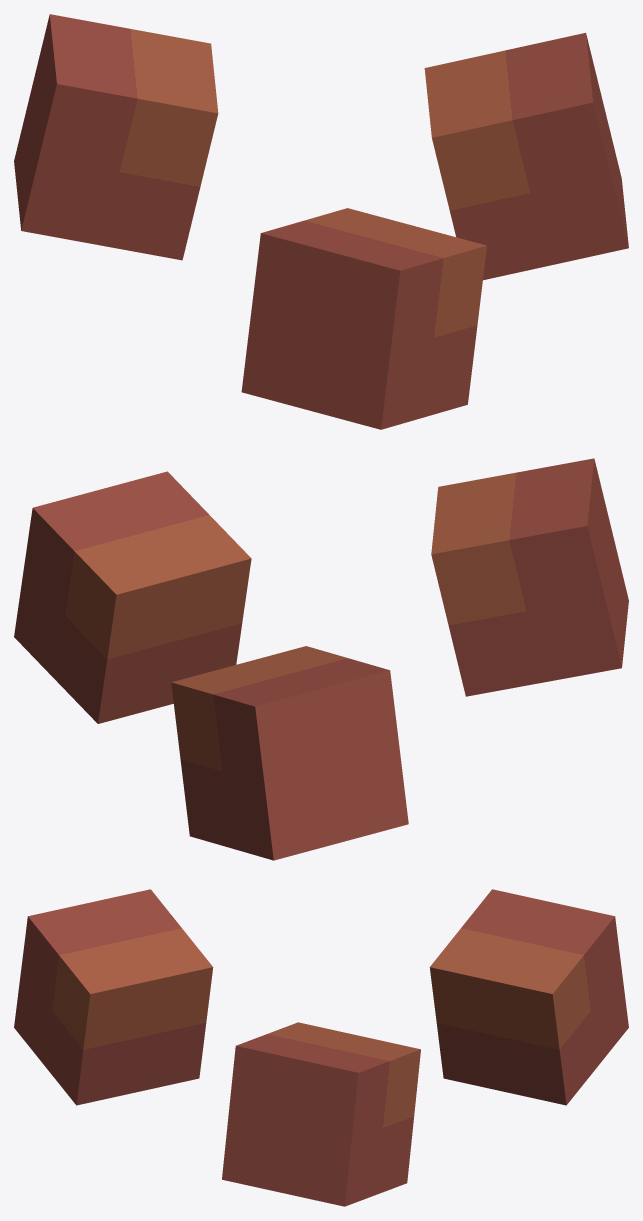
Rendered from blueberry-seeds.gltf.
3 views of the same model, one above another, from view 1: azimuth 30°, elevation 25°; view 2: azimuth 150°, elevation 25°; view 3: azimuth 270°, elevation 25° (orthographic). The views are drawn at different scales.
Visible parts, largest first — view 1: cube (×3); view 2: cube (×3); view 3: cube (×3).
Boxes of the visible parts, box(x1,y1,x2,y2) form: cube (×3): box(14, 14, 628, 429); cube (×3): box(14, 458, 628, 860); cube (×3): box(14, 889, 628, 1206).
Bounding box in the file's own units: 0.44 × 0.1491 × 0.5547.
1 material, 1 textured.
